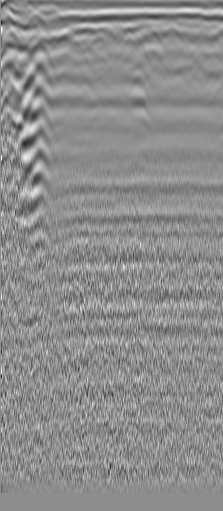오수: (23, 11, 49, 35)
우수: (161, 23, 181, 43)
